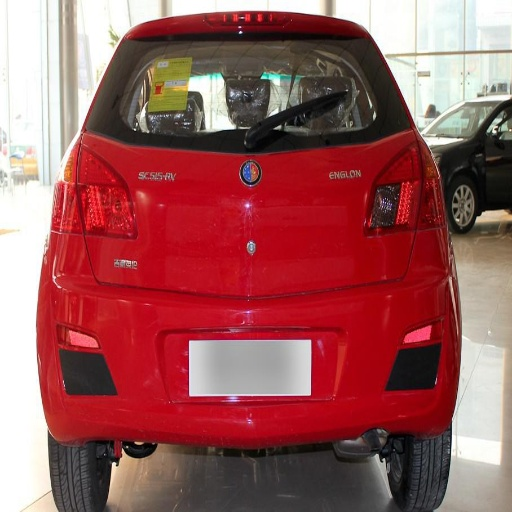back_bumper: (40, 233, 303, 405), (350, 224, 460, 421)
back_right_light: (402, 147, 442, 223)
trunk: (84, 140, 417, 330)
